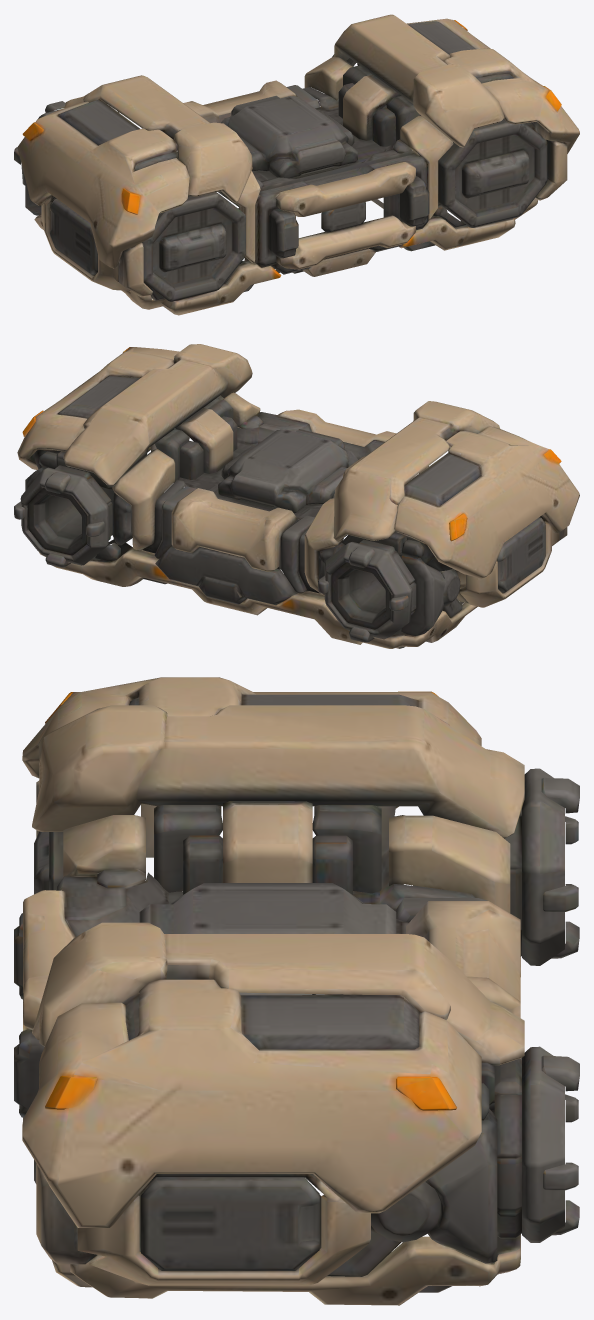
File: 16_MOB_High_Mobility_Booster.glb
3 views of the same model, one above another, from view 1: azimuth 30°, elevation 25°; view 2: azimuth 150°, elevation 25°; view 3: azimuth 270°, elevation 25° (orthographic). The views are drawn at different scales.
Visible parts, largest first — view 1: 16_MOB_High_Mobility_Booster; view 2: 16_MOB_High_Mobility_Booster; view 3: 16_MOB_High_Mobility_Booster.
Part boxes in pixels (left/top/right/bottom): 16_MOB_High_Mobility_Booster: left=14, top=14, right=579, bottom=315; 16_MOB_High_Mobility_Booster: left=14, top=344, right=579, bottom=648; 16_MOB_High_Mobility_Booster: left=14, top=677, right=579, bottom=1305.
Bounding box in the file's own units: 0.998 × 0.3403 × 0.5542.
1 material, 1 textured.
